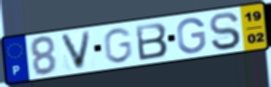8: (29, 34, 59, 78)
B: (133, 21, 170, 62)
G: (175, 17, 208, 55), (102, 26, 134, 65)
S: (208, 11, 243, 52)
V: (58, 29, 94, 72)
